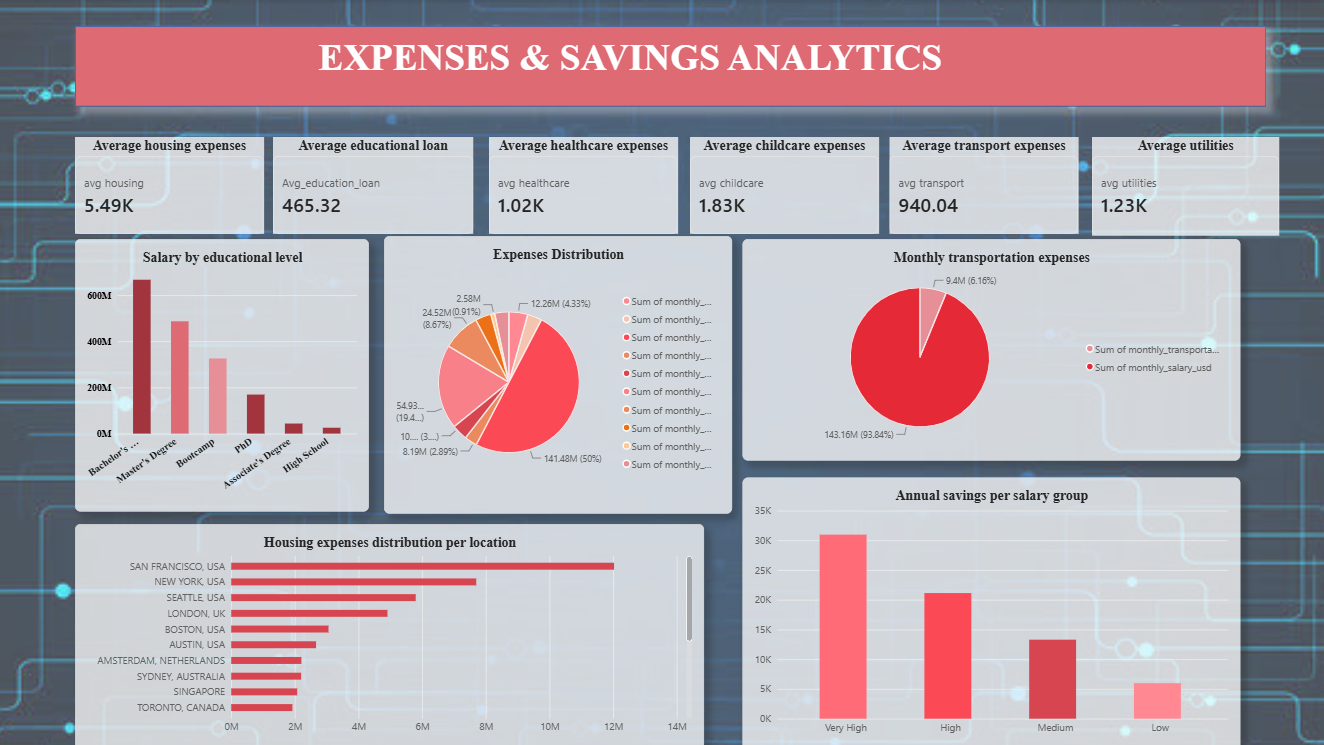

Layout of this report page (visuals, bound fields, positions):
{"tool":"powerbi","page":{"name":"Expenses & Saving analytics","canvas":[1920,1080],"ordinal":3},"visuals":[{"type":"shape","box":[115.8,37.8,1712.9,115.8],"z":0},{"type":"textbox","box":[115.8,54.3,1597.1,99.2],"z":1000},{"type":"pieChart","title":"Expenses Distribution","fields":{"Y":["Sum(tech_salary_dataset.monthly_utilities_usd)","Sum(tech_salary_dataset.monthly_transportation_usd)","Sum(tech_salary_dataset.monthly_total_expenses_usd)","Sum(tech_salary_dataset.monthly_miscellaneous_usd)","Sum(tech_salary_dataset.monthly_healthcare_usd)","Sum(tech_salary_dataset.monthly_housing_usd)","Sum(tech_salary_dataset.monthly_food_usd)","Sum(tech_salary_dataset.monthly_entertainment_usd)","Sum(tech_salary_dataset.monthly_education_loan_usd)","Sum(tech_salary_dataset.monthly_childcare_usd)"]},"box":[559.9,340.2,500.9,399.3],"z":2000},{"type":"clusteredBarChart","title":"Housing expenses distribution per location","fields":{"Category":["tech_salary_dataset.location"],"Y":["Sum(tech_salary_dataset.monthly_housing_usd)"]},"box":[115.8,756,904.9,323.7],"z":3000},{"type":"cardVisual","title":"Average housing expenses","fields":{"Data":["tech_salary_dataset.avg housing"]},"box":[115.8,198.5,271.7,139.4],"z":4000},{"type":"cardVisual","title":"Average educational loan","fields":{"Data":["tech_salary_dataset.Avg_education_loan"]},"box":[401.6,198.5,288.2,139.4],"z":5000},{"type":"cardVisual","title":"Average healthcare expenses","fields":{"Data":["tech_salary_dataset.avg healthcare"]},"box":[711.1,198.5,271.7,139.4],"z":6000},{"type":"cardVisual","title":"Average childcare expenses","fields":{"Data":["tech_salary_dataset.avg childcare"]},"box":[1001.8,198.5,271.7,139.4],"z":7000},{"type":"cardVisual","title":"Average transport expenses","fields":{"Data":["tech_salary_dataset.avg transport"]},"box":[1287.6,198.5,271.7,139.4],"z":8000},{"type":"pieChart","title":"Monthly transportation expenses","fields":{"Y":["Sum(tech_salary_dataset.monthly_transportation_usd)","Sum(tech_salary_dataset.monthly_salary_usd)"]},"box":[1077.4,344.9,715.9,319],"z":9000},{"type":"clusteredColumnChart","title":"Salary by educational level","fields":{"Y":["Sum(tech_salary_dataset.annual_salary_usd)"],"Category":["tech_salary_dataset.education_level"]},"box":[115.8,344.9,422.9,392.2],"z":10000},{"type":"cardVisual","title":"Average utilities","fields":{"Data":["tech_salary_dataset.avg utilities"]},"box":[1578.2,198.5,269.3,141.8],"z":11000},{"type":"clusteredColumnChart","title":"Annual savings per salary group","fields":{"Category":["tech_salary_dataset.Salary Group"],"Y":["tech_salary_dataset.annual saving median"]},"box":[1077.4,687.5,715.9,392.2],"z":12000}]}

Visuals, with their boxes in screenshot pixels (x1, y1, x2, y2), scaled from the page's 1920x1080 canvas onto the 1324x745 screenshot:
shape: box(80, 26, 1261, 106)
textbox: box(80, 37, 1181, 106)
"Expenses Distribution" pieChart: box(386, 235, 732, 510)
"Housing expenses distribution per location" clusteredBarChart: box(80, 522, 704, 744)
"Average housing expenses" cardVisual: box(80, 137, 267, 233)
"Average educational loan" cardVisual: box(277, 137, 476, 233)
"Average healthcare expenses" cardVisual: box(490, 137, 678, 233)
"Average childcare expenses" cardVisual: box(691, 137, 878, 233)
"Average transport expenses" cardVisual: box(888, 137, 1075, 233)
"Monthly transportation expenses" pieChart: box(743, 238, 1237, 458)
"Salary by educational level" clusteredColumnChart: box(80, 238, 371, 508)
"Average utilities" cardVisual: box(1088, 137, 1274, 235)
"Annual savings per salary group" clusteredColumnChart: box(743, 474, 1237, 744)
